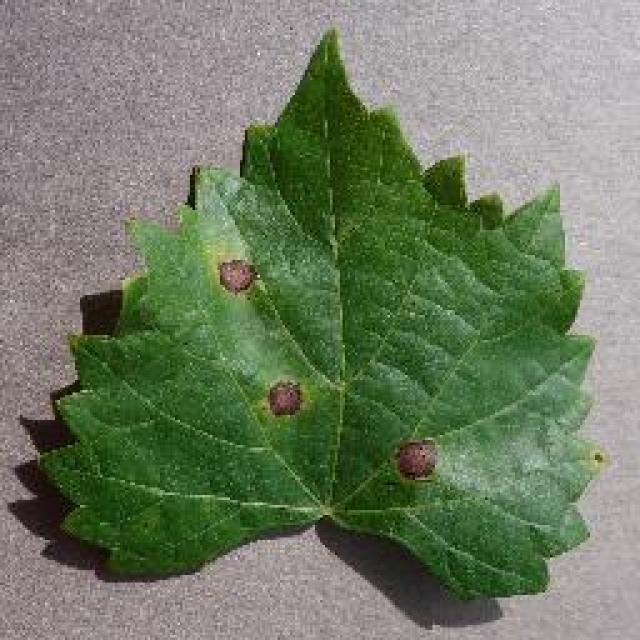Grape___Black_rot: (32, 29, 611, 605)
